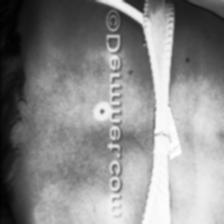Potentially Malignant Skin Tumors: (93, 100, 112, 128)
